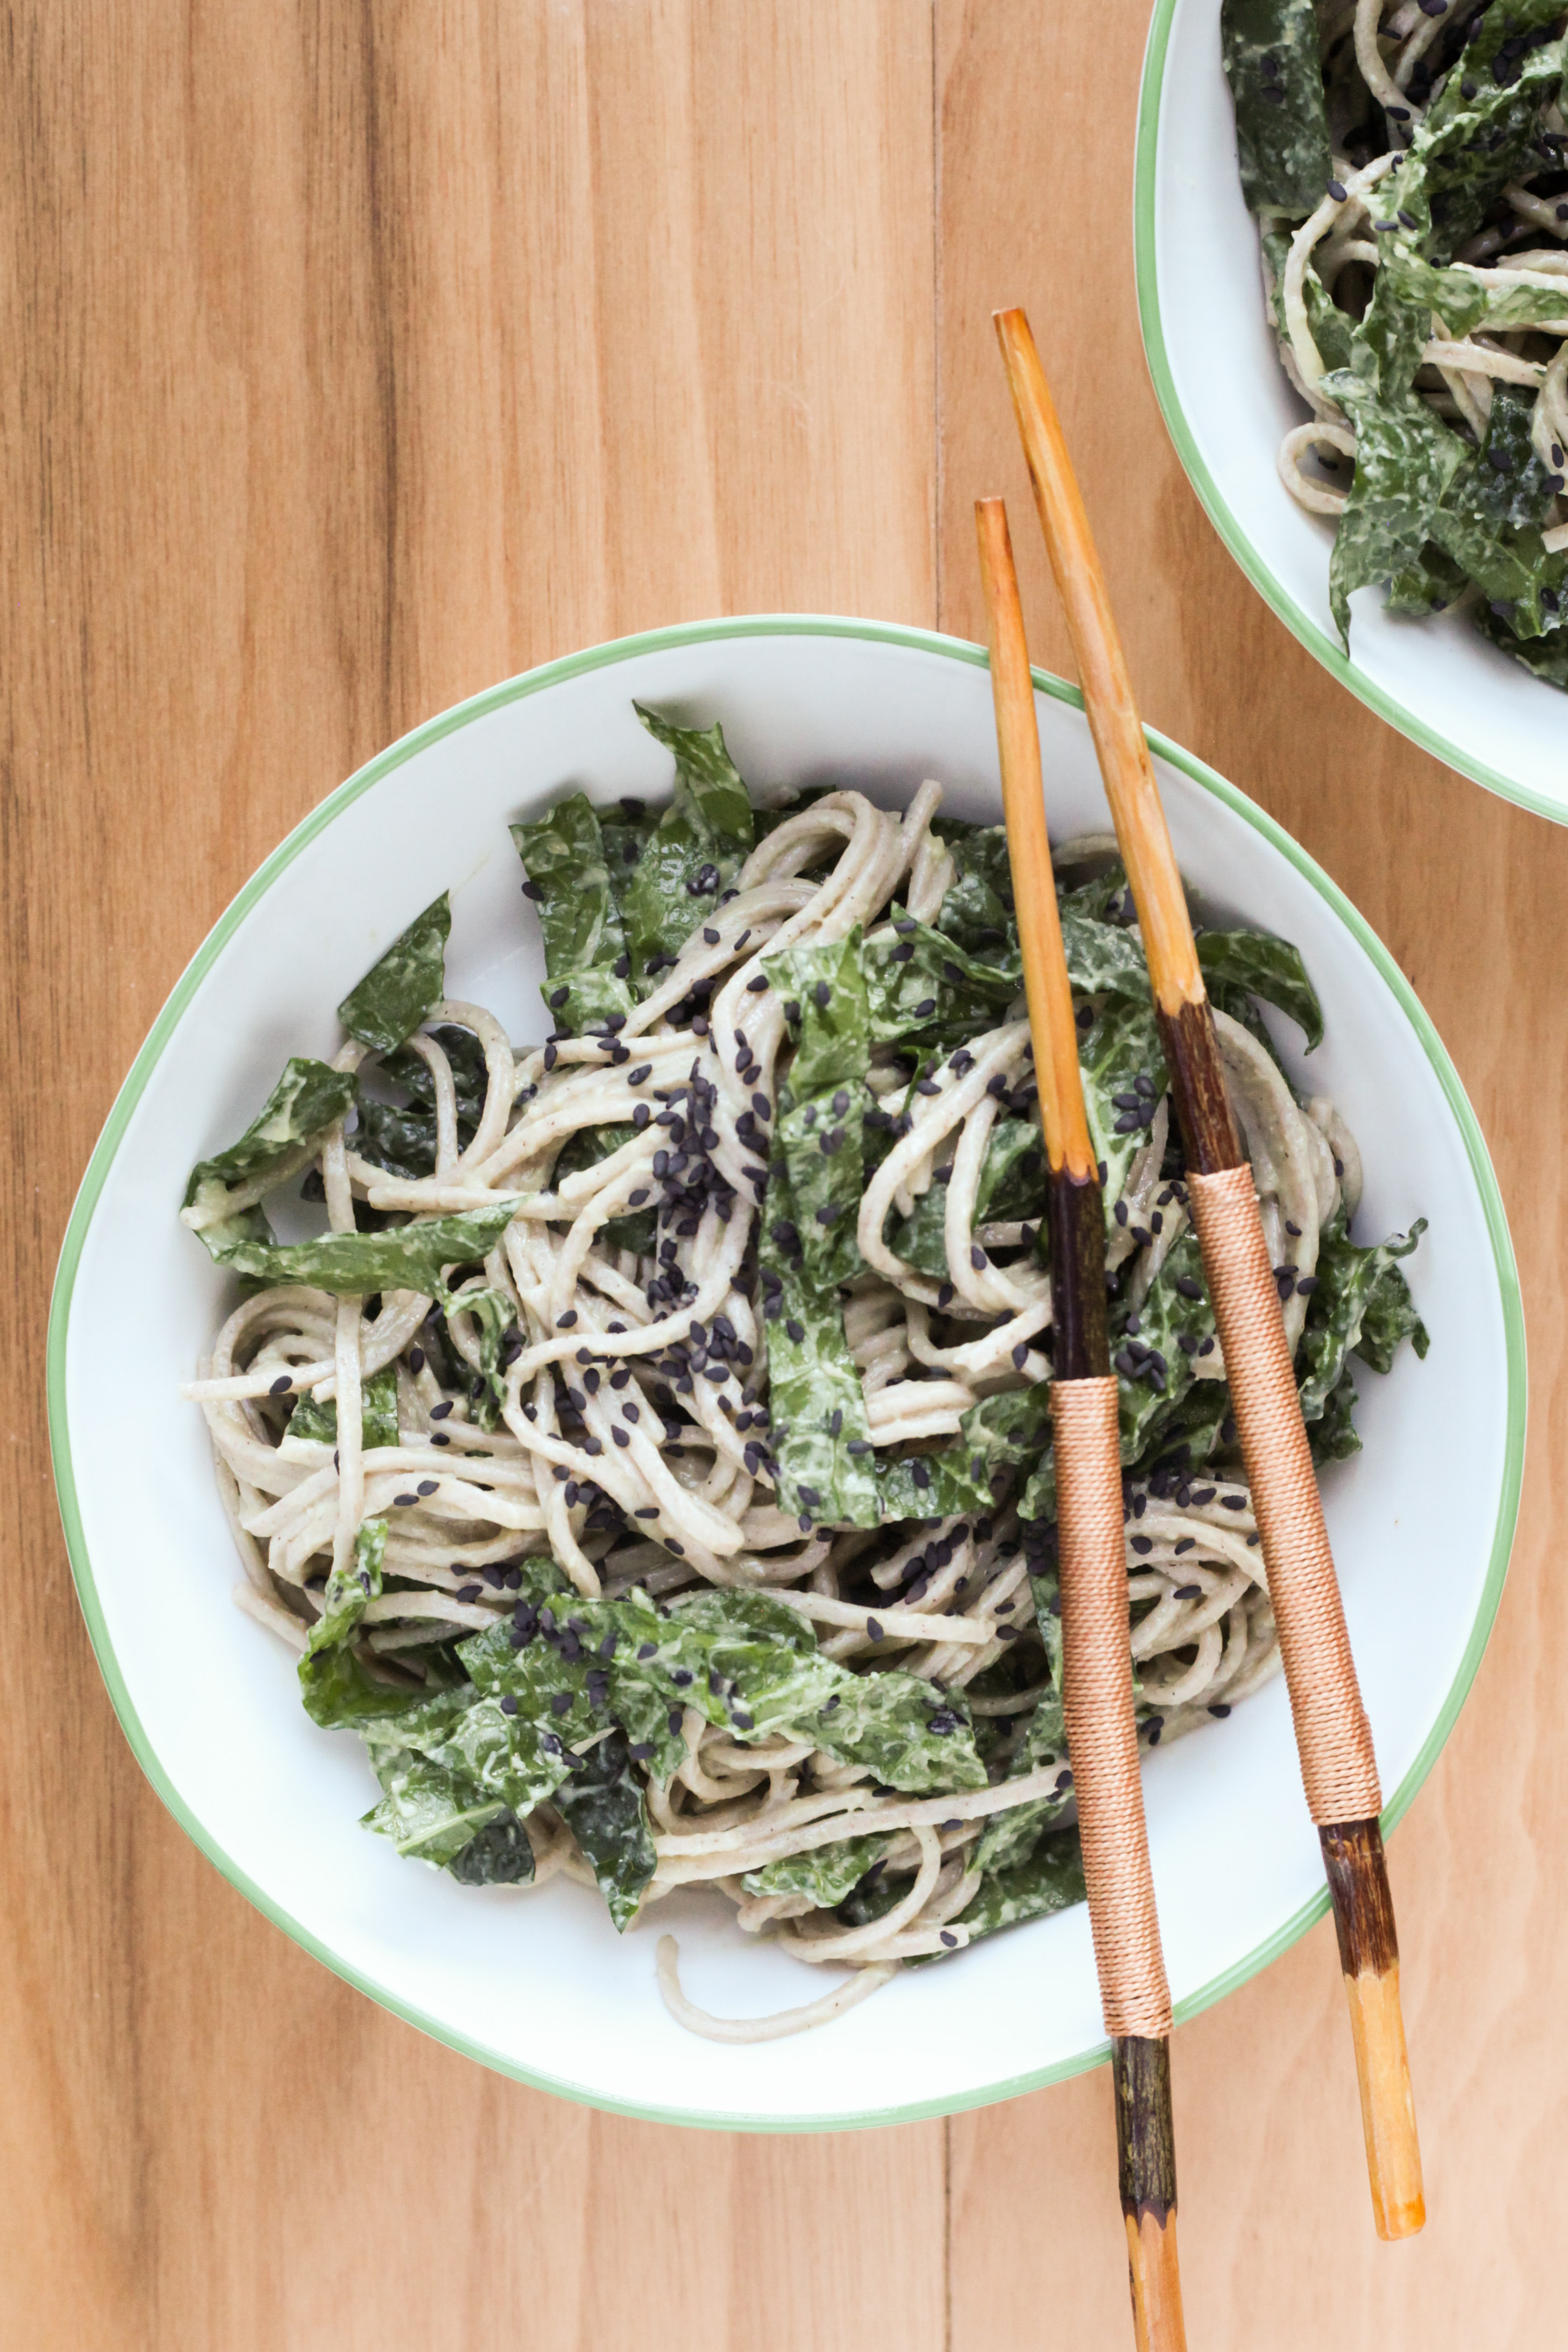Soba: (180, 731, 1384, 1990)
